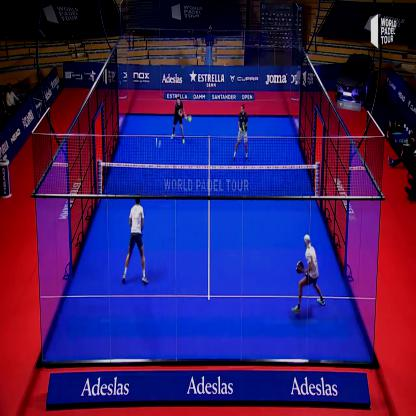ball: (156, 138, 163, 148)
